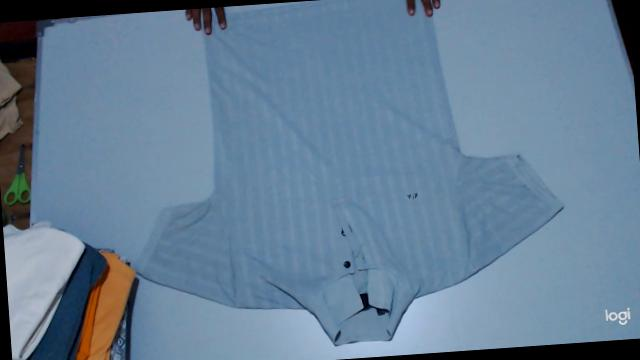new-garment: (138, 0, 561, 344)
